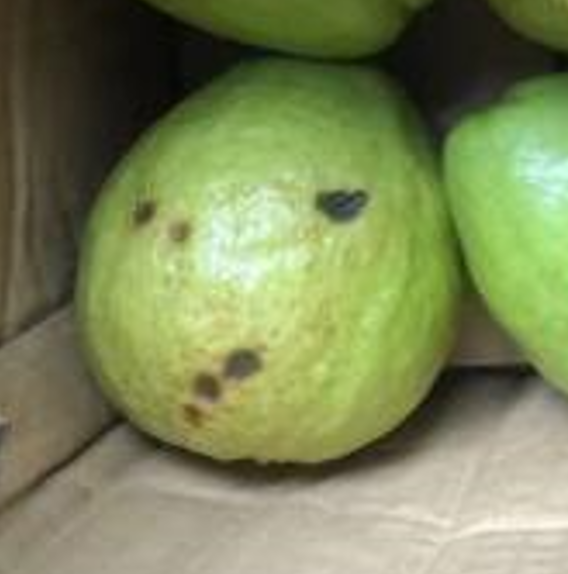guava_B: (73, 52, 465, 465)
